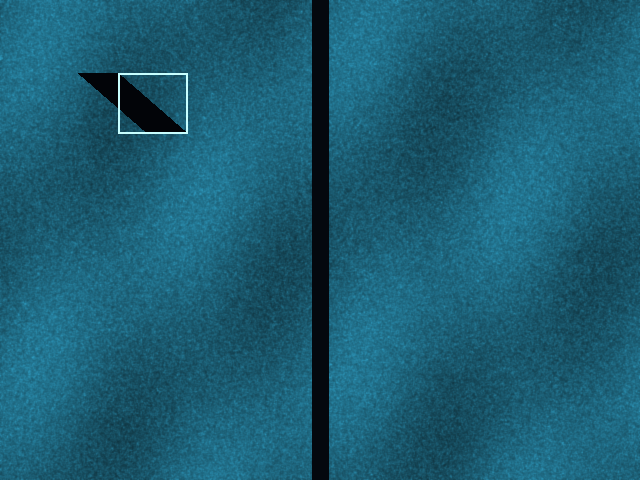Plastic Debris: (118, 73, 187, 133)
